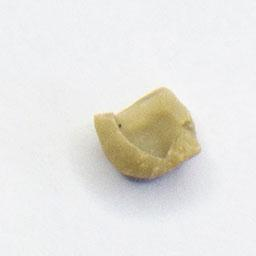defect: (92, 83, 203, 184)
